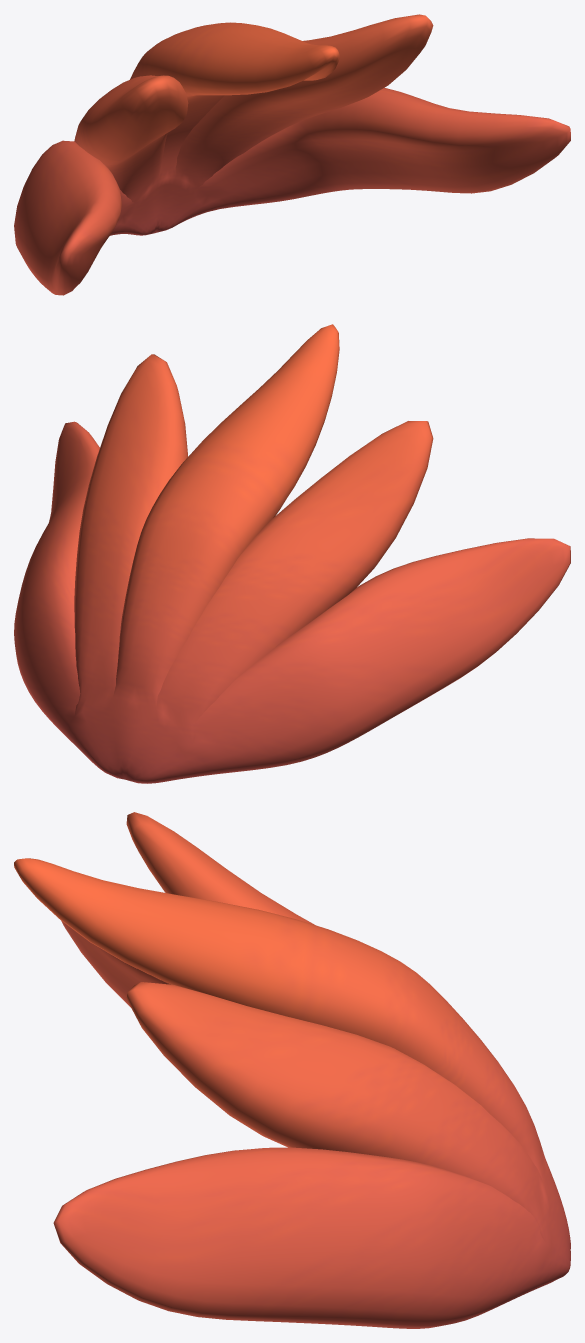
Rendered from Attach_Headplate.fbx.
3 views of the same model, one above another, from view 1: azimuth 30°, elevation 25°; view 2: azimuth 150°, elevation 25°; view 3: azimuth 270°, elevation 25° (orthographic). The views are drawn at different scales.
Parts seen in each view (by area): view 1: Attach_Headplate_2; view 2: Attach_Headplate_2; view 3: Attach_Headplate_2.
Part boxes in pixels (left/top/right/bottom): Attach_Headplate_2: left=14, top=14, right=570, bottom=295; Attach_Headplate_2: left=14, top=324, right=570, bottom=783; Attach_Headplate_2: left=14, top=812, right=570, bottom=1328.
Bounding box in the file's own units: 1.1 × 0.7806 × 0.6472.
